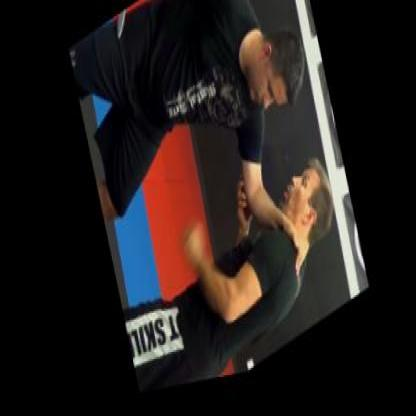knife: (112, 4, 145, 44)
